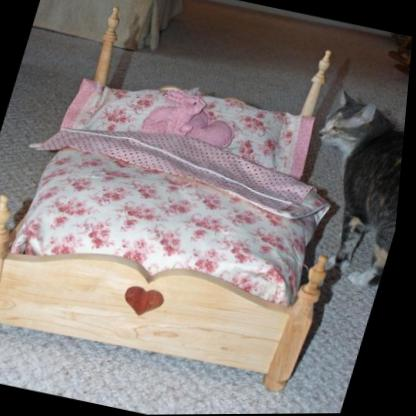Bed: (0, 0, 397, 403)
